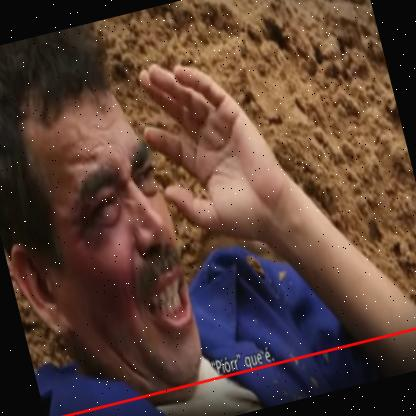sem_capacete: (0, 14, 222, 415)
sem_colete_refletivo: (15, 198, 415, 415)
